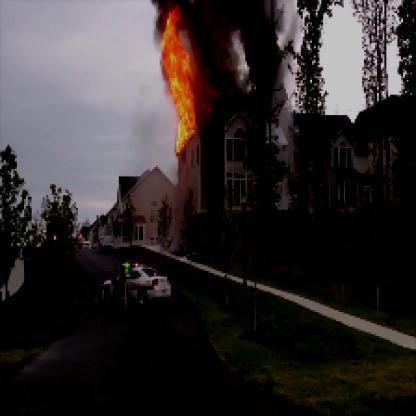Fire: (160, 2, 214, 150)
Smoke: (188, 2, 282, 115)
